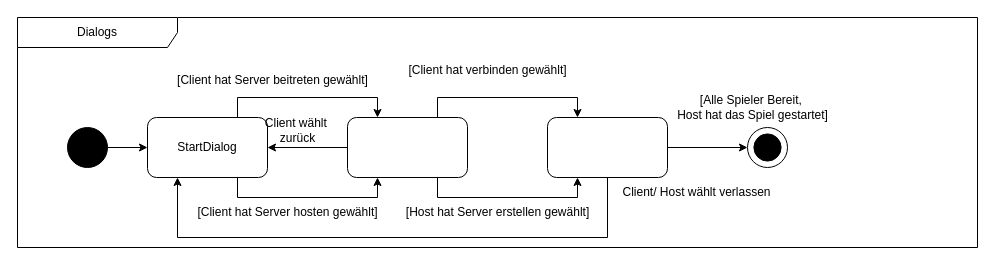
Image size: 995x265. Some labels were removed from this diagram. The box of each missing label's shape, as (x1, y1, x2, y2) in pixels:
Lobby: (546, 116, 668, 178)
NetworkDialog: (346, 116, 468, 178)
